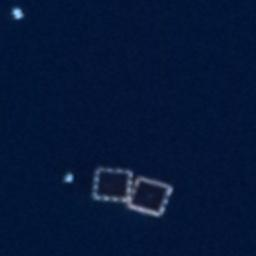square_solid: (122, 172, 179, 222), (87, 162, 138, 206)
